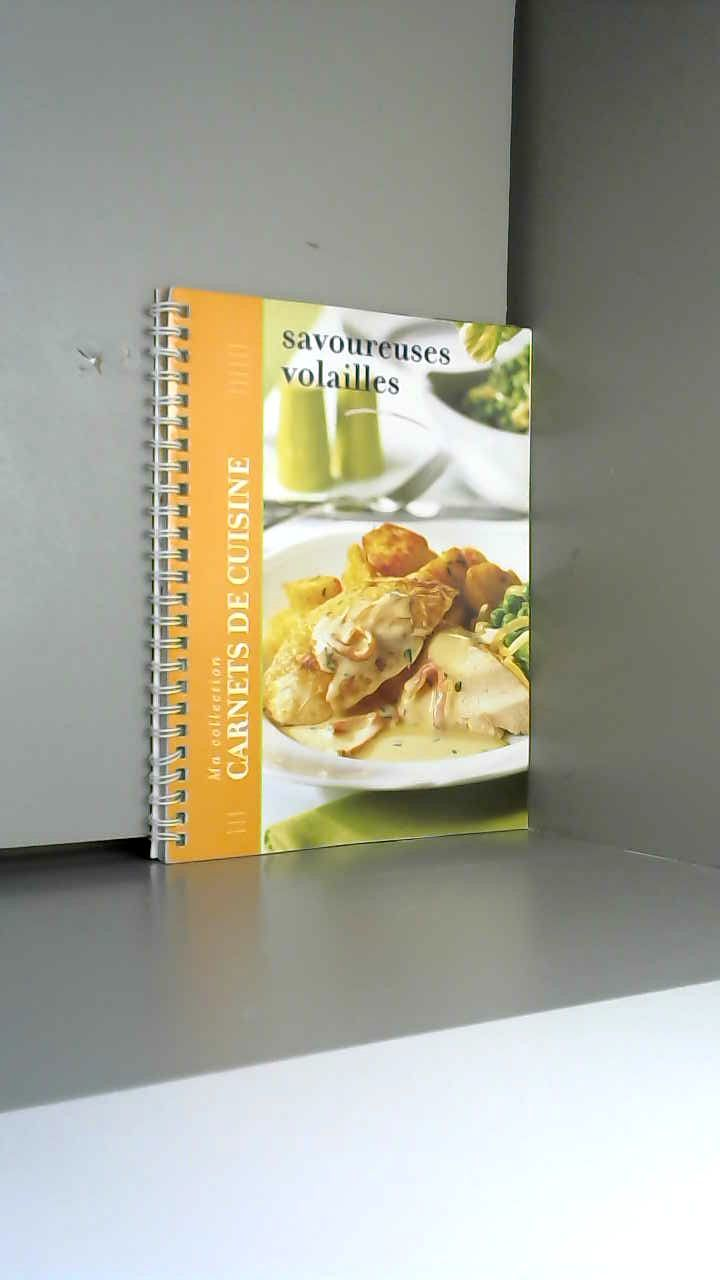book: (107, 243, 573, 905)
